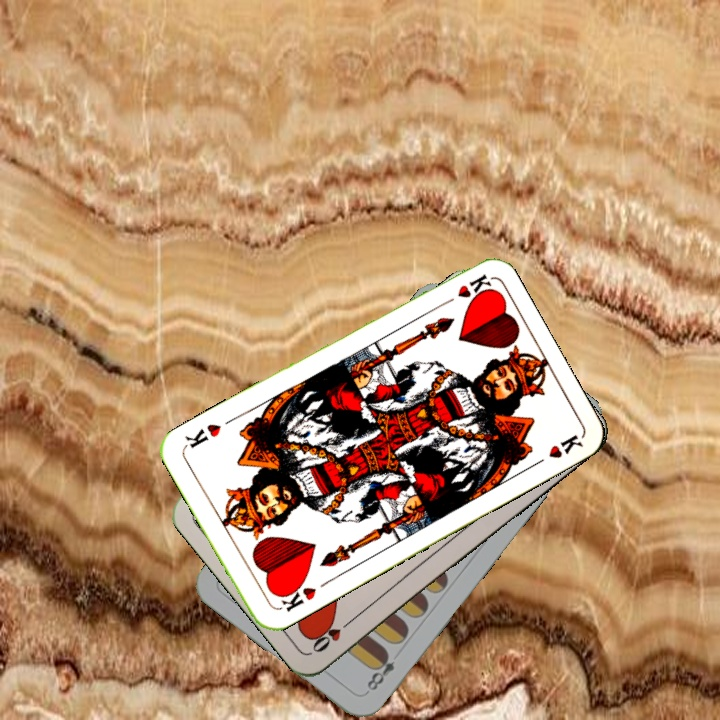E8: (361, 647, 398, 696)
HK: (436, 270, 493, 309), (274, 577, 319, 614)
HO: (308, 613, 358, 656)
